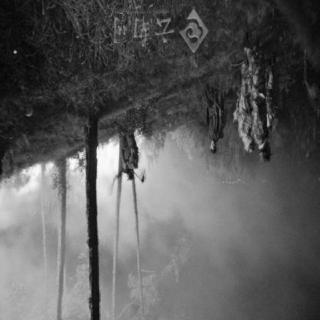Fire: (5, 137, 123, 203)
